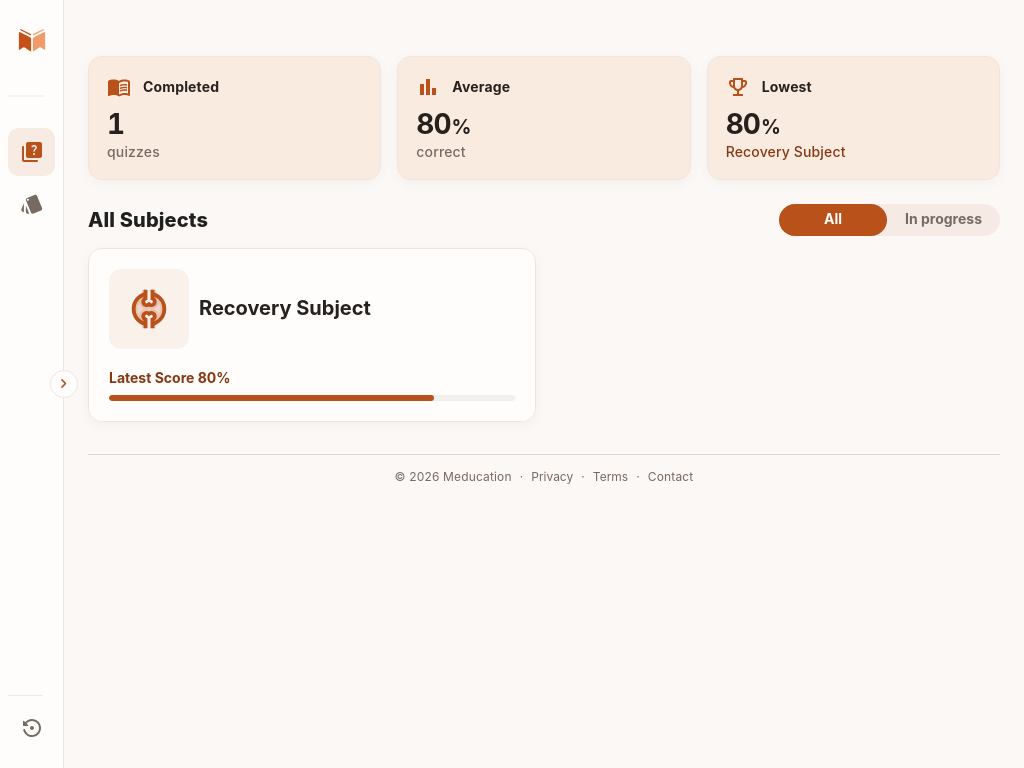
Test: progressive dashboard statistics › recovers a failed subject quiz catalog without changing saved progress
What coordinates should you click on to do the following:
click the button with aria-label "Open Recovery Subject"
I would click on:
 (312, 334)
Its box is [89,248,535,420].
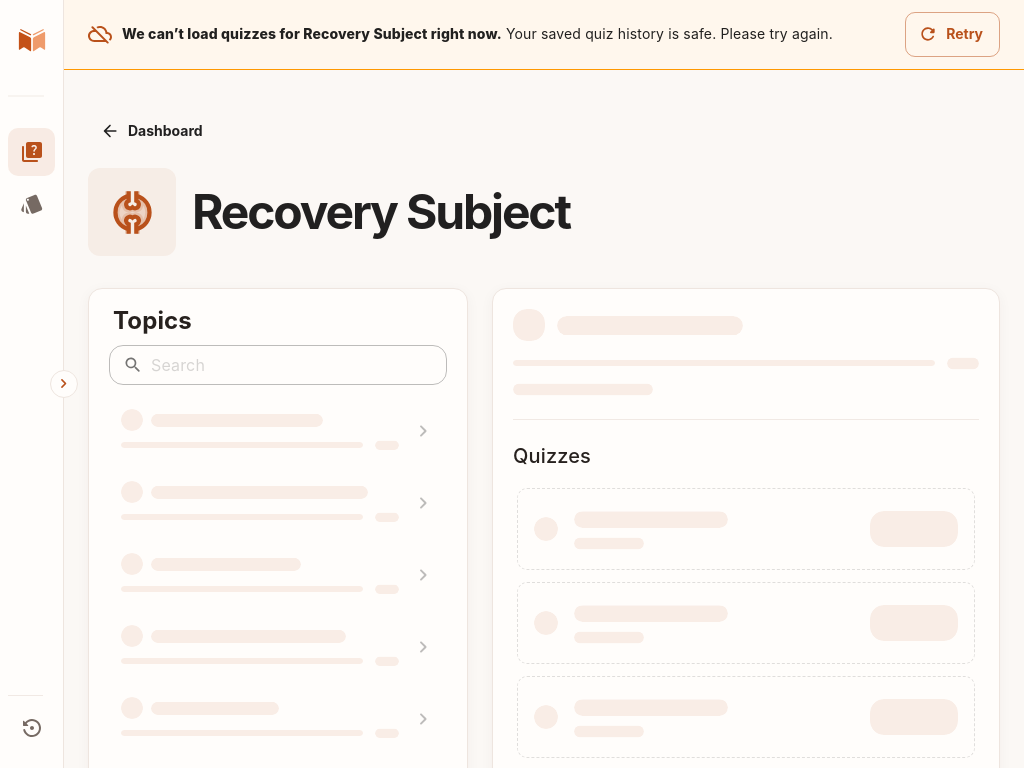
Expected: the message reads "We can’t load quizzes for Recovery Subject right now.", [122,25,502,42]
Expected: the number of buttons "Retry" is 1
What coordinates should you click on to do the following:
click the button "Retry"
I would click on:
 (953, 34)
Its box is [905,12,1000,56].
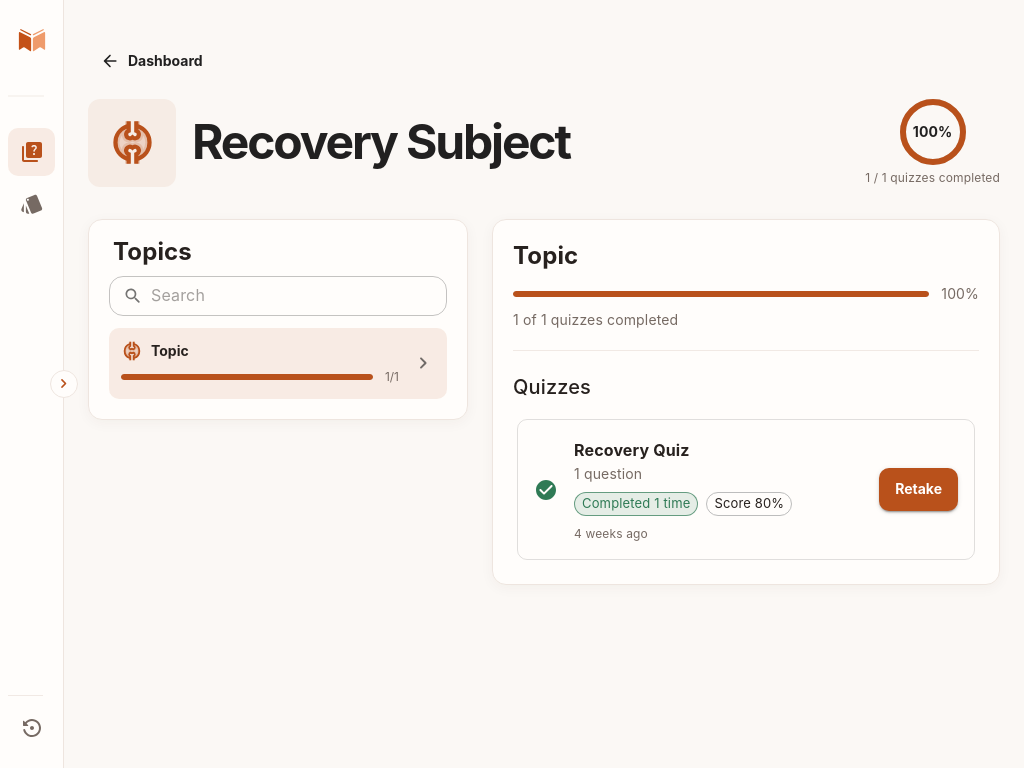
Expected: the button with aria-label "Retake quiz" is shown, [879,468,958,511]
